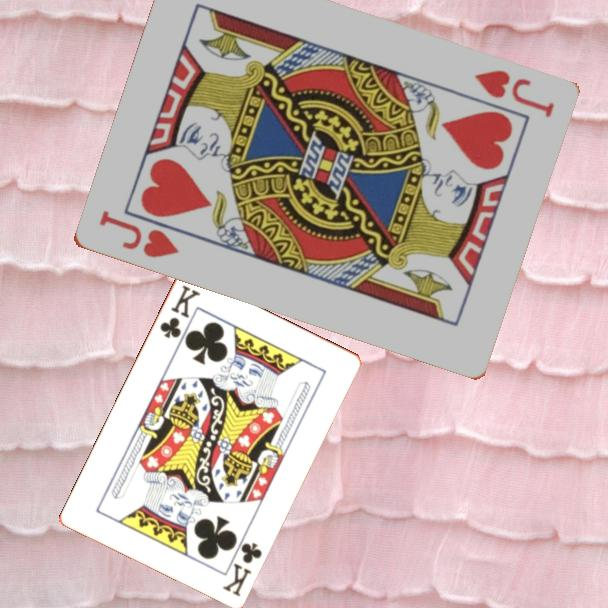c13: (156, 281, 203, 341), (219, 538, 265, 599)
h11: (470, 66, 557, 121), (95, 207, 182, 261)
